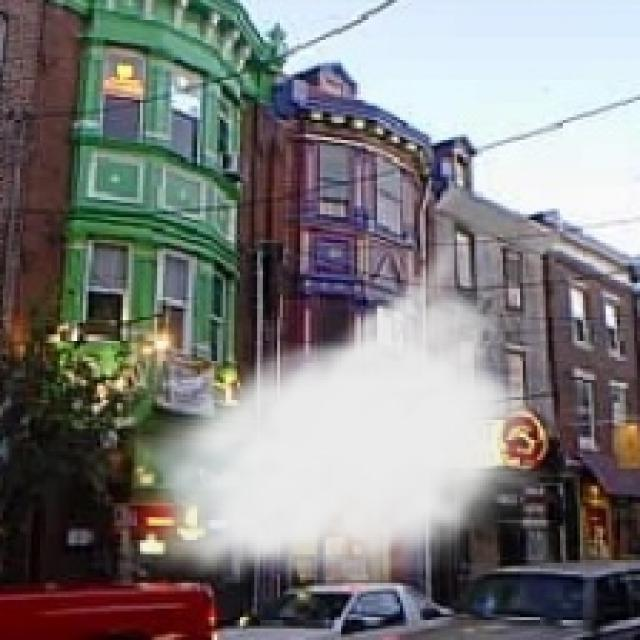smoke: (123, 223, 548, 600)
